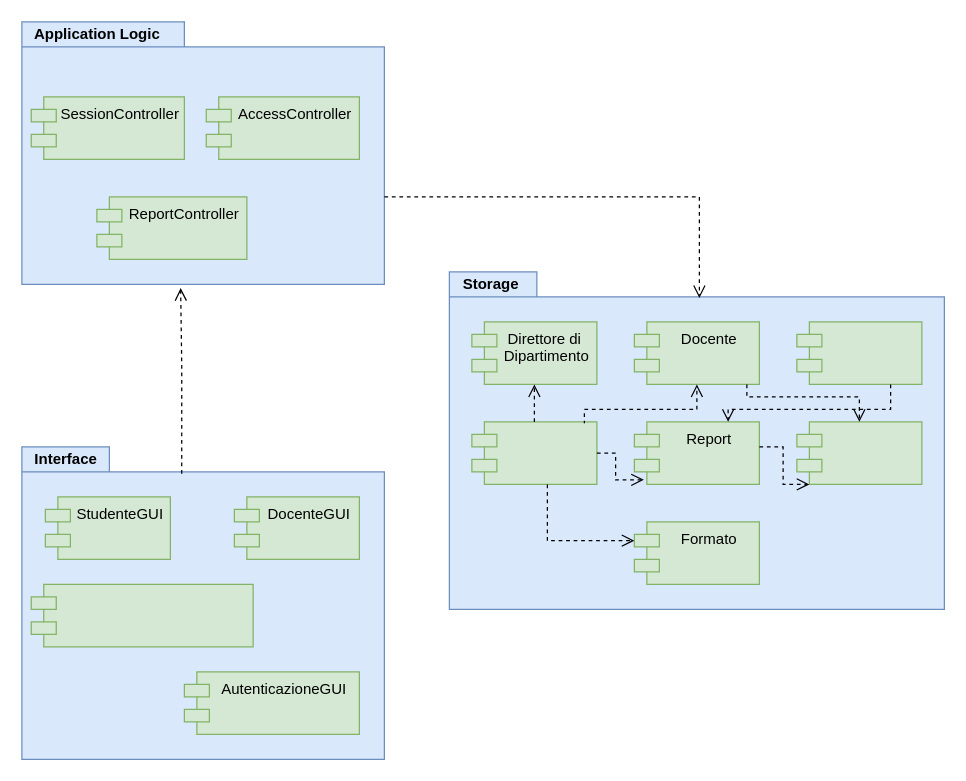
The diagram is 966 pixels wide and 781 high, and some of its shapes have lost their labels. Each missing label, with the box of its shape:
Dipartimento: (471, 421, 597, 484)
DirettoreDiDipartimentoGUI: (30, 583, 253, 647)
Esito: (796, 321, 922, 384)
Sessione di Validazione: (796, 421, 922, 484)
